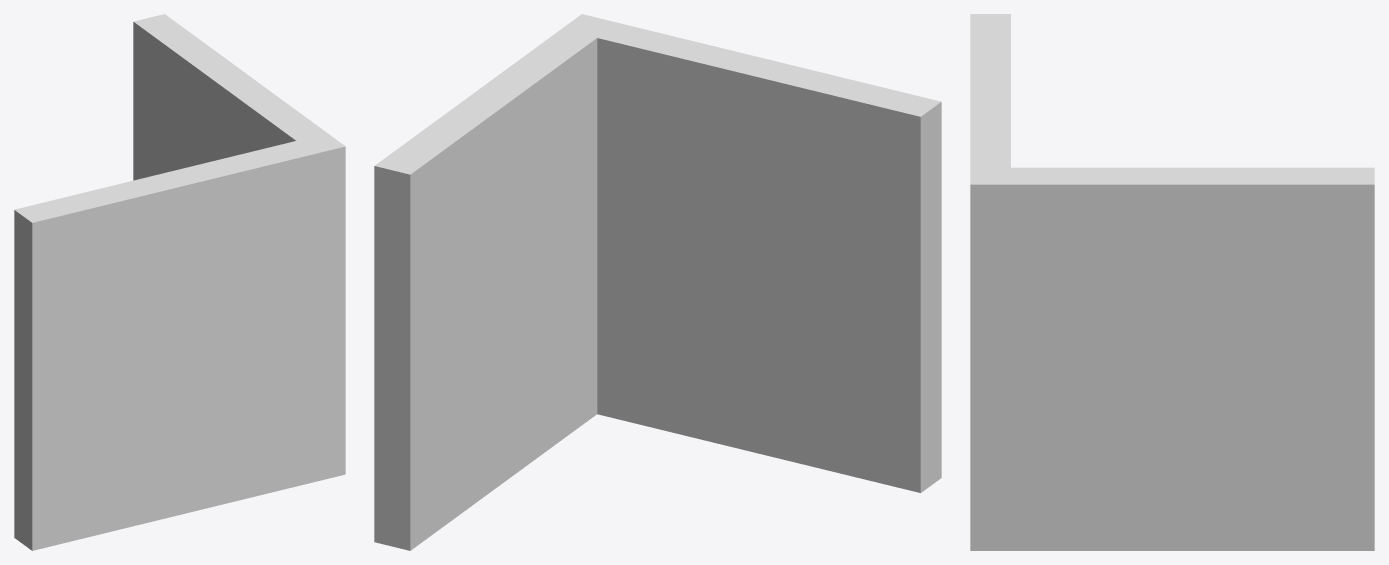
Rendered from PlainCornerHalfWall.fbx.
The picture shows the model from 3 angles, left to right: view 1: azimuth 30°, elevation 25°; view 2: azimuth 150°, elevation 25°; view 3: azimuth 270°, elevation 25°; orthographic projection. The views are drawn at different scales.
Parts seen in each view (by area): view 1: PlainCornerHalfWall; view 2: PlainCornerHalfWall; view 3: PlainCornerHalfWall.
Part boxes in pixels (box(x1,y1,x2,y2)): PlainCornerHalfWall: box(14, 14, 345, 550); PlainCornerHalfWall: box(374, 14, 941, 550); PlainCornerHalfWall: box(970, 14, 1374, 550).
Size of the model in its own units: 100 by 100 by 100.
